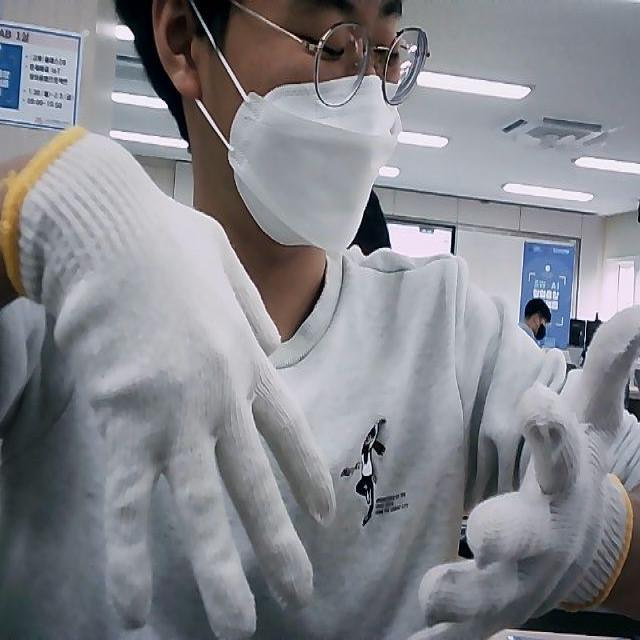gloves: (0, 121, 335, 640), (411, 310, 640, 640)
